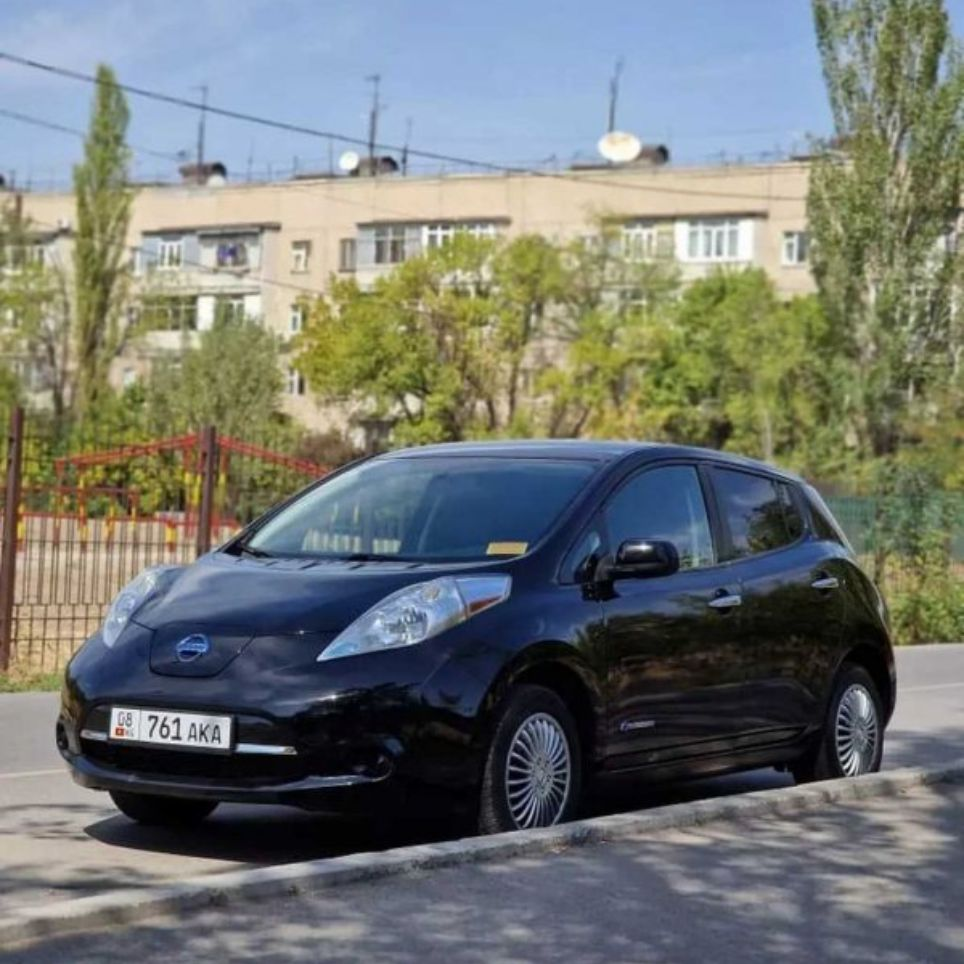license plate: (108, 704, 235, 752)
truck: (54, 436, 900, 840)
